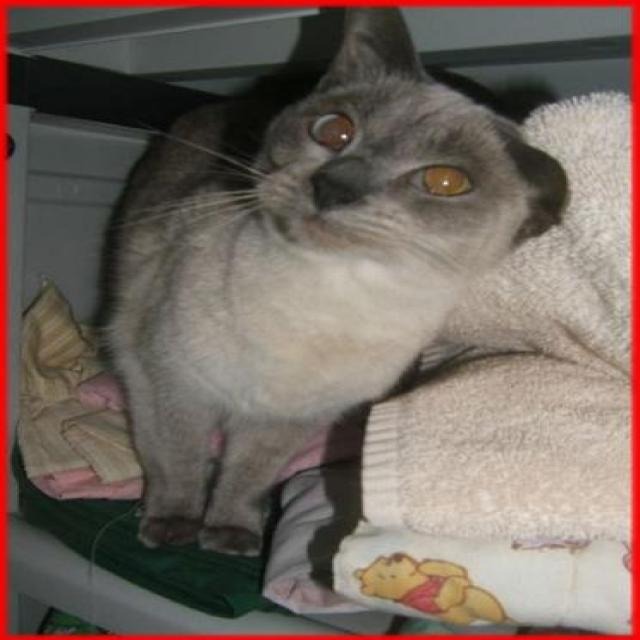Cats: (93, 5, 569, 557)
